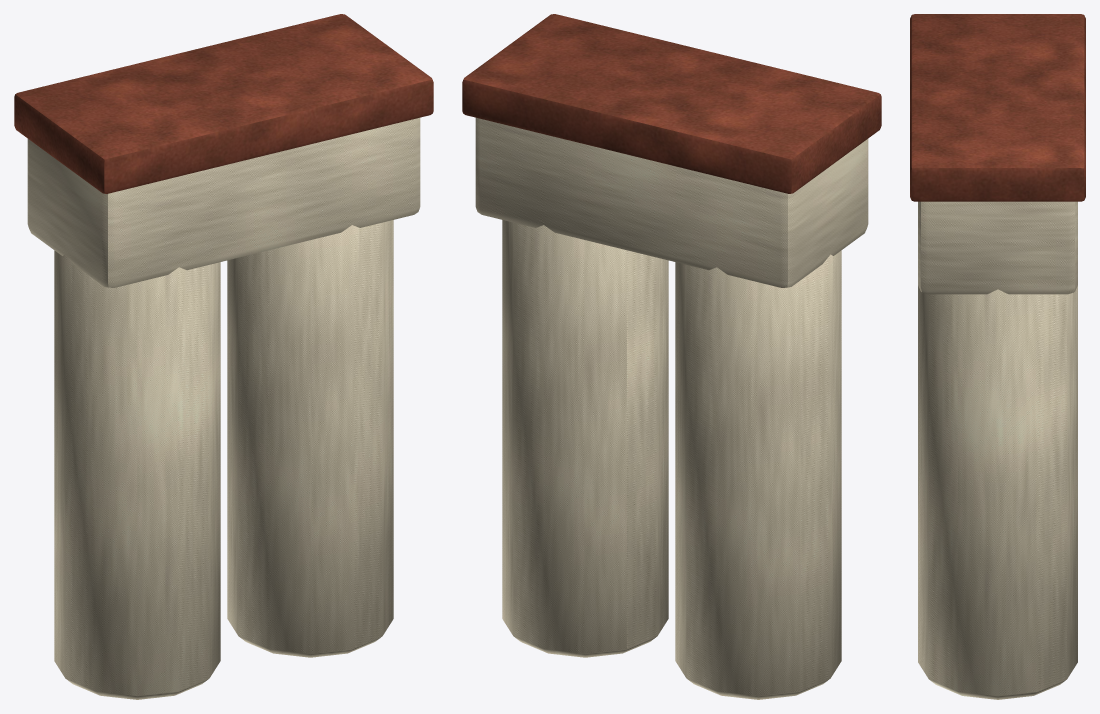
File: basic_pants.glb
The picture shows the model from 3 angles, left to right: view 1: azimuth 30°, elevation 25°; view 2: azimuth 150°, elevation 25°; view 3: azimuth 270°, elevation 25°; orthographic projection. The views are drawn at different scales.
Parts seen in each view (by area): view 1: basic_pants; view 2: basic_pants; view 3: basic_pants.
Boxes of the visible parts, <box> form: basic_pants: <box>14,14,433,699</box>; basic_pants: <box>462,14,881,699</box>; basic_pants: <box>910,14,1085,699</box>.
Bounding box in the file's own units: 0.23 × 0.3725 × 0.11.
2 materials, 2 textured.
